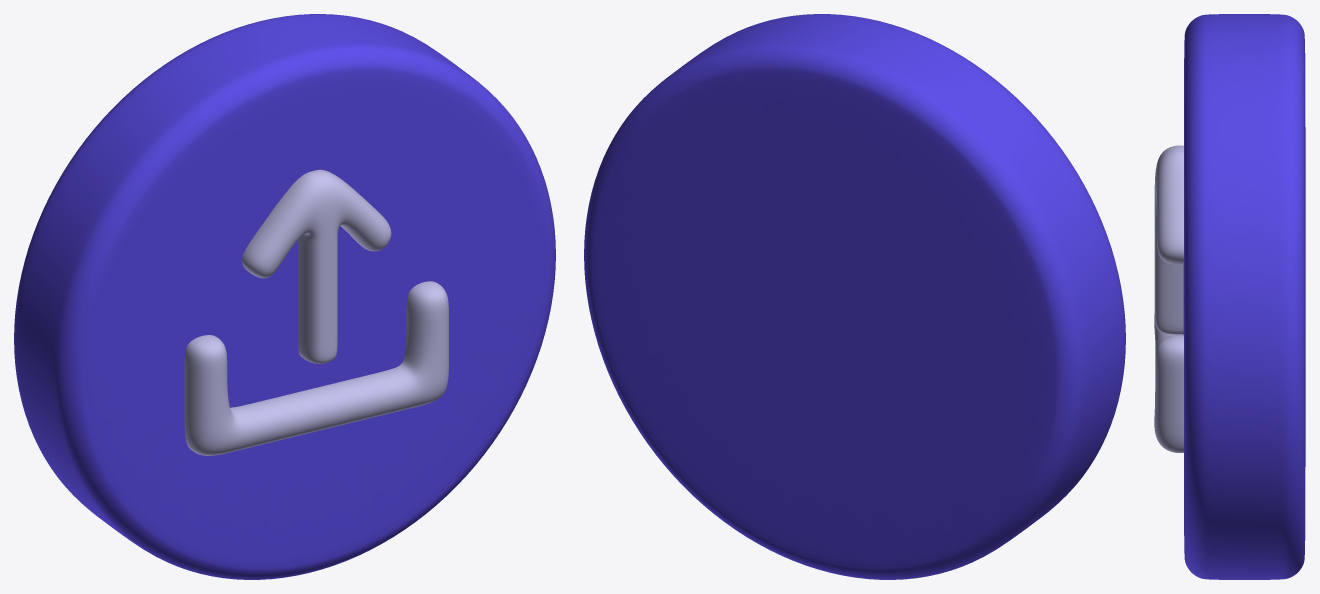
The model's file is upload-animated-3d-icon-1019446385246.glb.
The picture shows the model from 3 angles, left to right: view 1: azimuth 30°, elevation 25°; view 2: azimuth 150°, elevation 25°; view 3: azimuth 270°, elevation 25°; orthographic projection.
Parts seen in each view (by area): view 1: Base.006, Plane, Arrow Base.004; view 2: Base.006; view 3: Base.006, Arrow Base.004, Plane.
Boxes of the visible parts, bbox=[...] form: Base.006: bbox=[14, 14, 555, 579]; Plane: bbox=[184, 281, 448, 455]; Arrow Base.004: bbox=[242, 169, 391, 363]; Base.006: bbox=[584, 14, 1125, 579]; Base.006: bbox=[1183, 14, 1305, 579]; Arrow Base.004: bbox=[1154, 145, 1183, 334]; Plane: bbox=[1154, 314, 1183, 452].
Bounding box in the file's own units: 1.99 × 1.99 × 0.5312.
